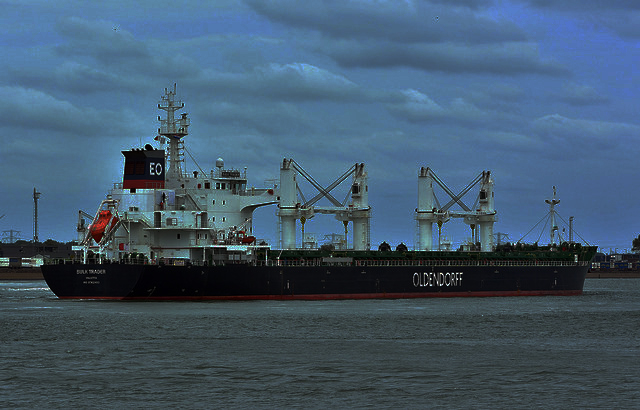bulk carrier: (40, 82, 601, 297)
